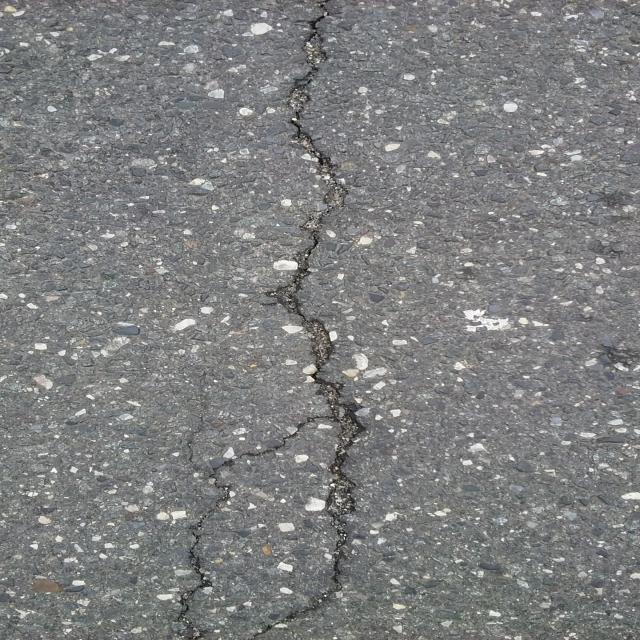Longitudial: (257, 0, 417, 640)
